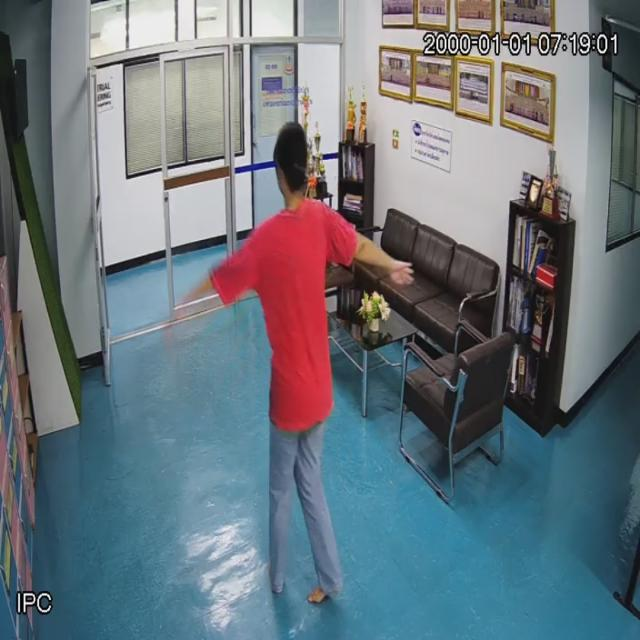normal: (232, 117, 357, 640)
